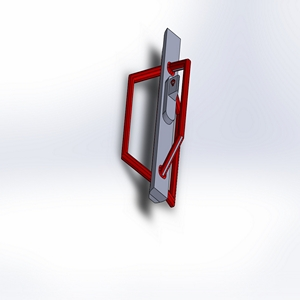submarine: (94, 17, 204, 216)
